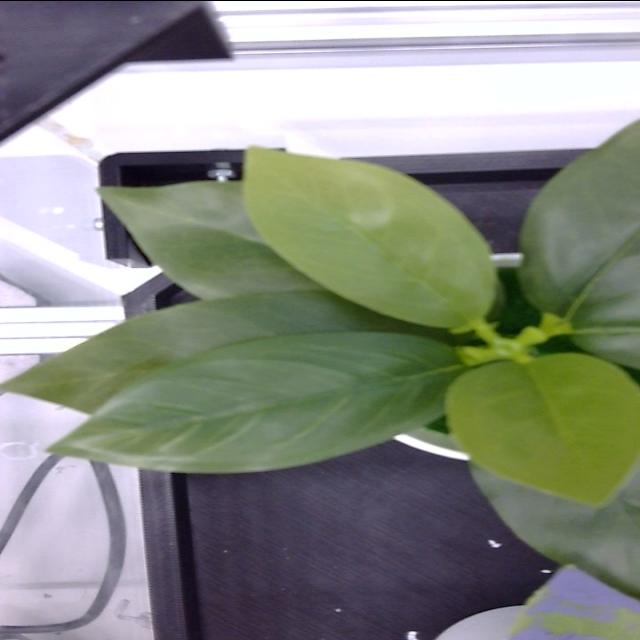Green: (3, 289, 461, 471), (52, 311, 460, 472), (244, 146, 497, 328), (448, 352, 639, 501), (101, 180, 321, 298), (520, 121, 639, 325), (581, 334, 639, 367)
